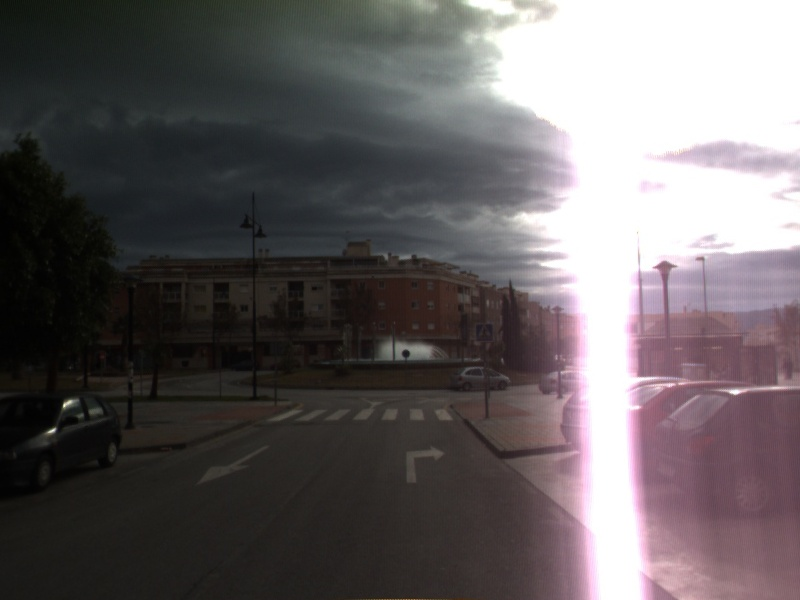RIGHT: (404, 443, 448, 485)
